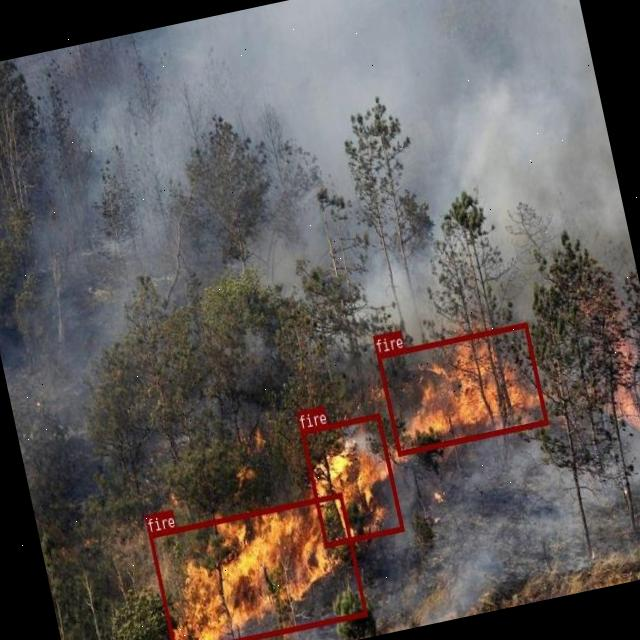fire: (147, 491, 367, 640), (375, 320, 547, 455), (300, 413, 404, 547)
